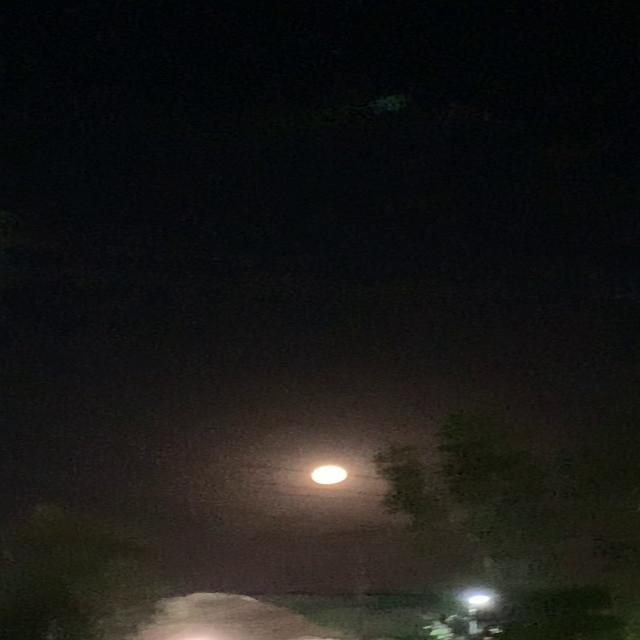moon: (298, 464, 351, 490)
